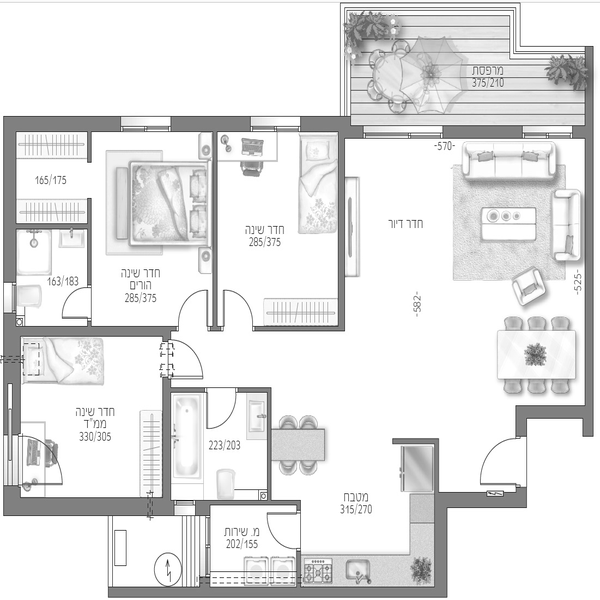door: (477, 434, 536, 484), (160, 335, 207, 385), (260, 509, 304, 556), (217, 289, 261, 329), (172, 287, 213, 328), (201, 384, 238, 429), (60, 284, 92, 322)
room: (341, 115, 587, 418), (1, 114, 217, 339), (7, 334, 182, 514), (217, 110, 348, 334), (267, 429, 445, 593), (148, 380, 281, 514)
wall: (108, 582, 426, 600), (22, 318, 180, 343), (332, 126, 351, 332), (432, 480, 461, 600), (17, 496, 180, 514), (4, 115, 21, 286), (207, 128, 221, 333), (586, 44, 593, 439), (3, 307, 24, 438), (157, 378, 177, 495), (23, 110, 120, 134), (433, 487, 529, 510), (438, 121, 523, 144), (192, 496, 306, 513), (261, 382, 277, 502), (170, 113, 256, 135), (83, 197, 102, 288), (517, 402, 586, 425), (255, 324, 346, 336), (296, 115, 352, 134), (11, 221, 88, 234), (4, 482, 26, 516), (79, 133, 97, 165), (167, 385, 200, 399), (235, 384, 266, 394)
window: (520, 116, 578, 141), (362, 122, 447, 139), (115, 111, 173, 134), (249, 111, 302, 134)
